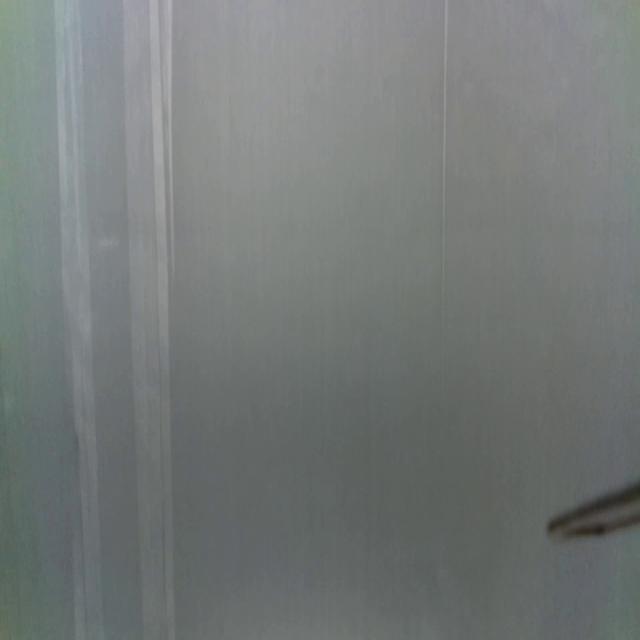crease: (122, 0, 177, 640), (54, 0, 104, 640), (440, 0, 450, 334)
